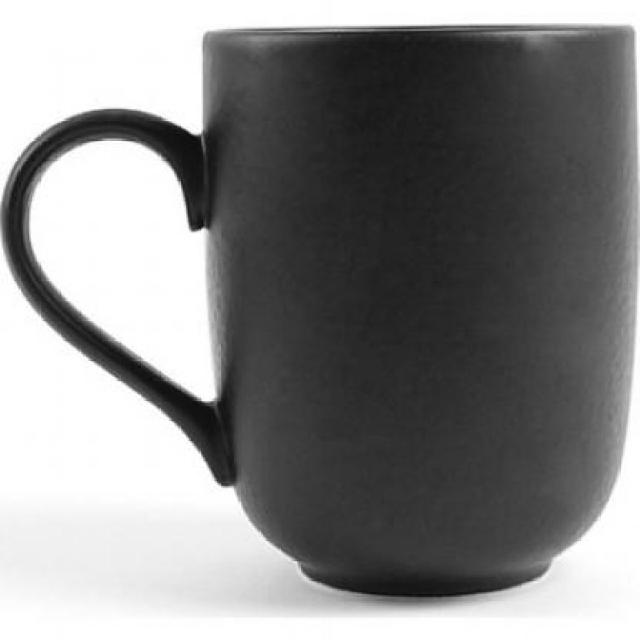taza: (0, 24, 640, 599)
